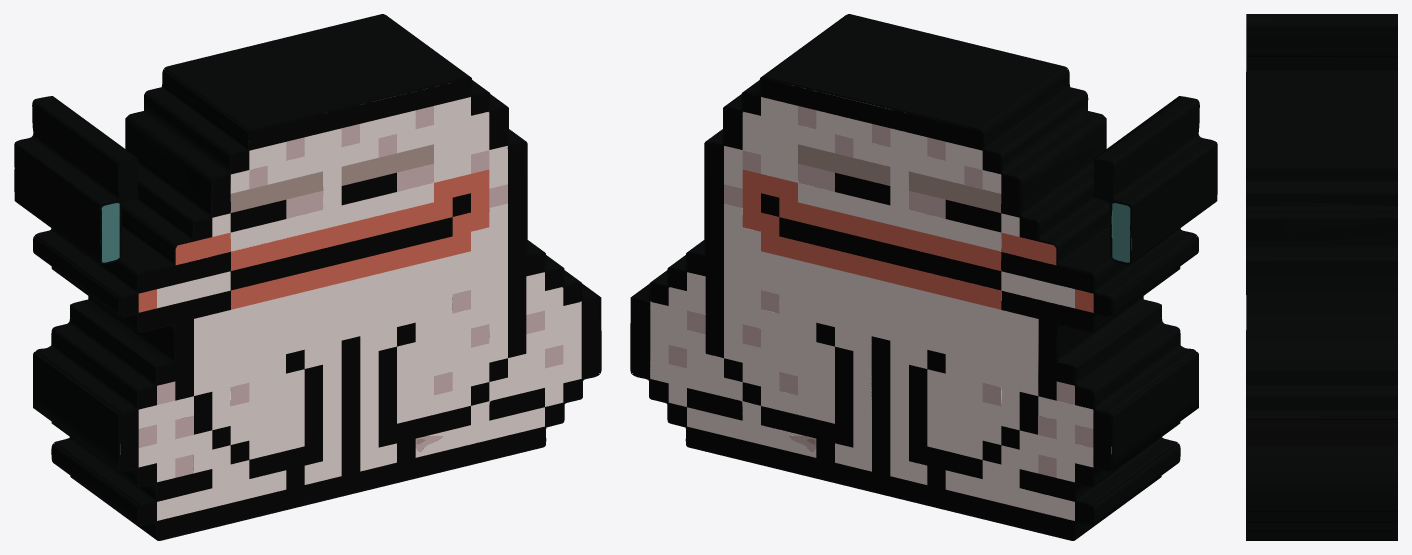
File: Toadz_1334.glb
3 views of the same model, side by side, from view 1: azimuth 30°, elevation 25°; view 2: azimuth 150°, elevation 25°; view 3: azimuth 270°, elevation 25° (orthographic). The views are drawn at different scales.
Visible parts, largest first — view 1: Curve; view 2: Curve; view 3: Curve.
Part boxes in pixels (left/top/right/bottom): Curve: left=14, top=14, right=601, bottom=540; Curve: left=630, top=14, right=1217, bottom=540; Curve: left=1246, top=14, right=1397, bottom=540.
Bounding box in the file's own units: 3.38 × 2.5 × 1.
